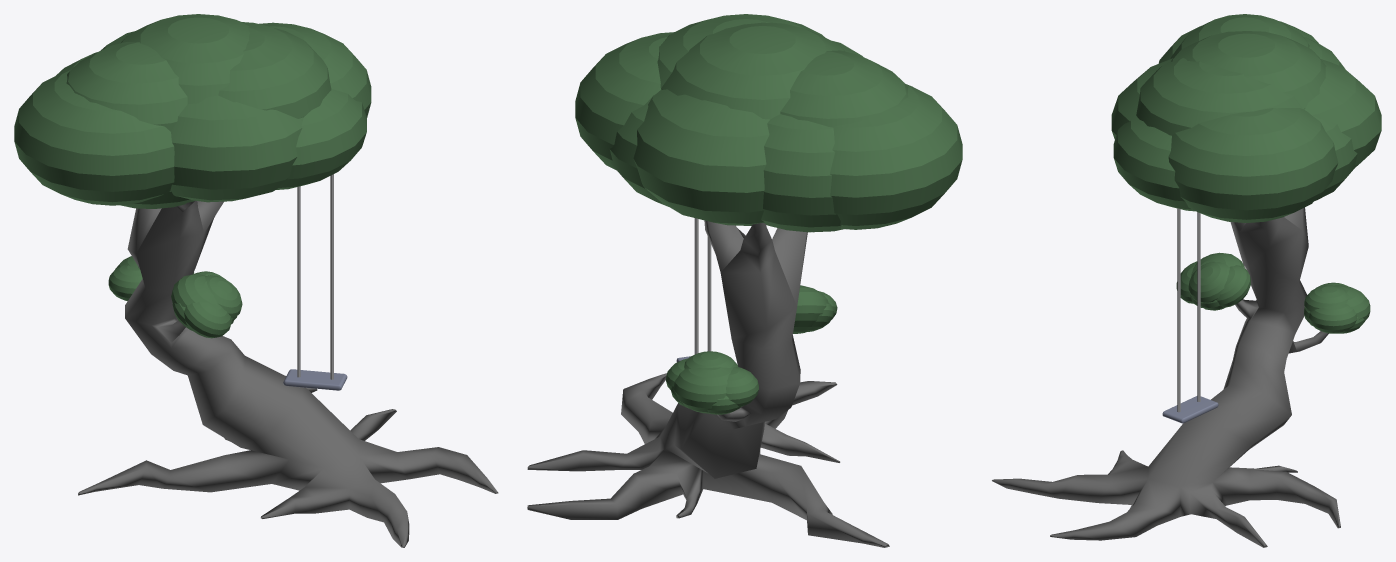
File: Tree.fbx
3 renders of one model, left to right at view 1: azimuth 30°, elevation 25°; view 2: azimuth 150°, elevation 25°; view 3: azimuth 270°, elevation 25°, orthographic. The views are drawn at different scales.
Parts seen in each view (by area): view 1: polySurface57; view 2: polySurface57; view 3: polySurface57.
Boxes of the visible parts, left/top/right/bottom form: polySurface57: left=14, top=14, right=498, bottom=547; polySurface57: left=527, top=14, right=962, bottom=547; polySurface57: left=992, top=14, right=1381, bottom=547.
Bounding box in the file's own units: 4.15 × 4.61 × 3.96.
